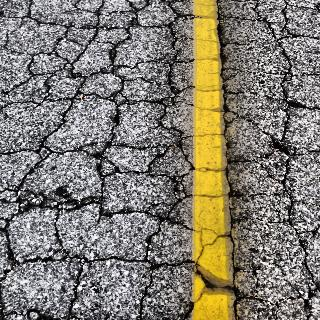alligator-crack: (0, 0, 320, 320), (32, 16, 240, 291), (73, 124, 276, 305), (12, 48, 186, 258), (137, 46, 279, 206)
